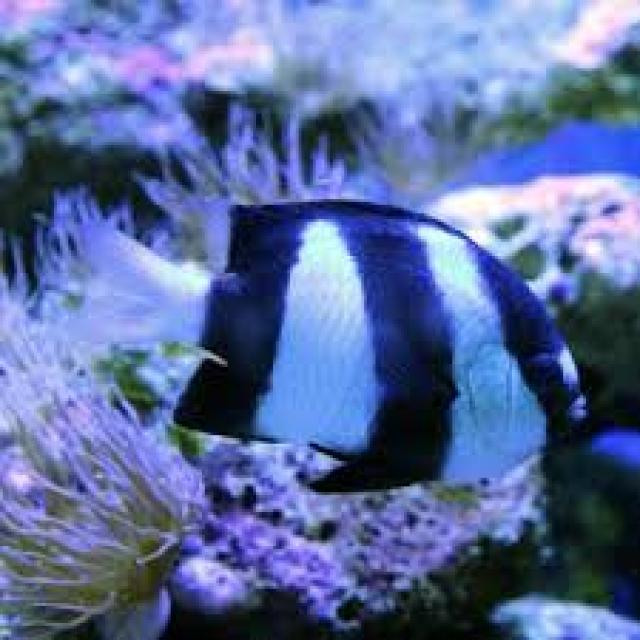ThreeStripedDamselfish: (70, 193, 588, 497)
